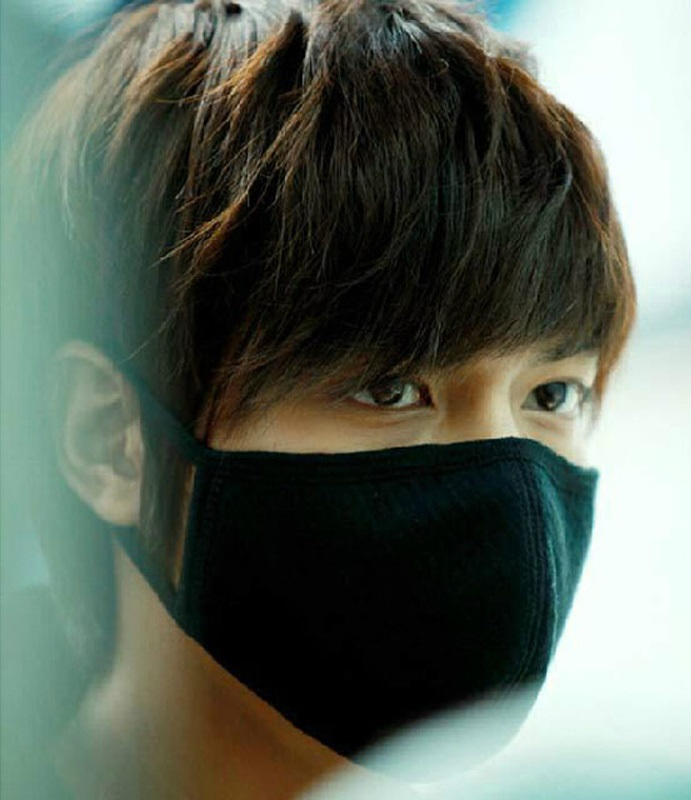face_mask: (238, 169, 613, 714)
